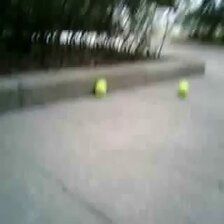tennis: (94, 77, 108, 95), (178, 81, 190, 97)
